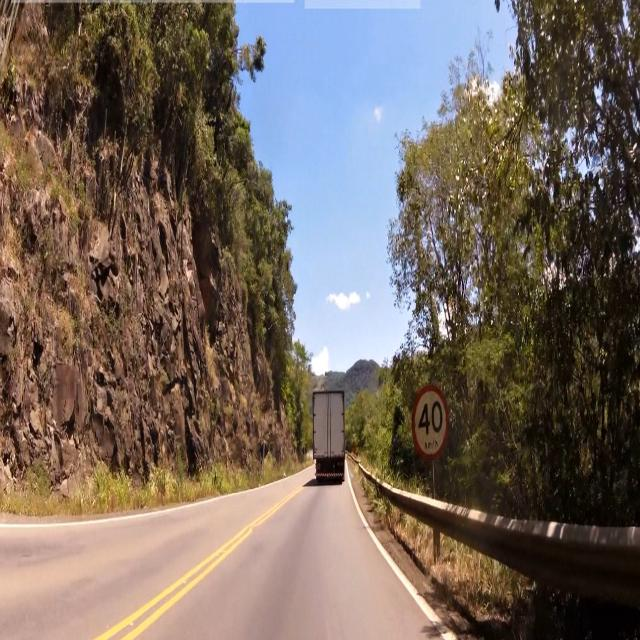R-19: (408, 379, 457, 463)
